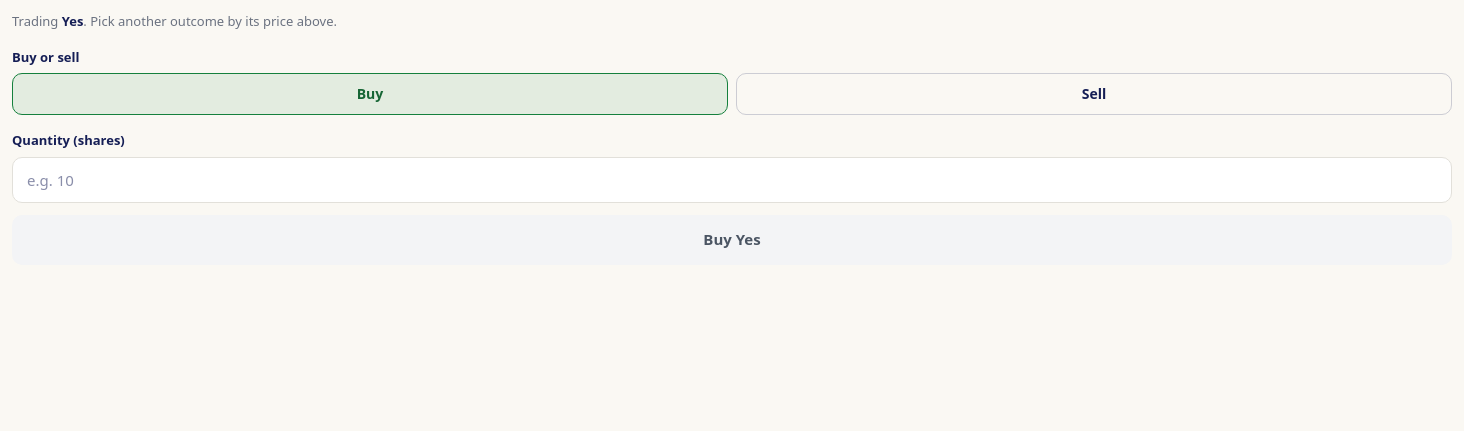
Scenario: TradingPanel › shows a live cost preview after the debounce settles
The width and height of the screenshot is (1464, 431).
Type "10" into the number field labelled "Quantity (shares)" at [732, 180], box [12,156,1452,202]
Wait 300 ms
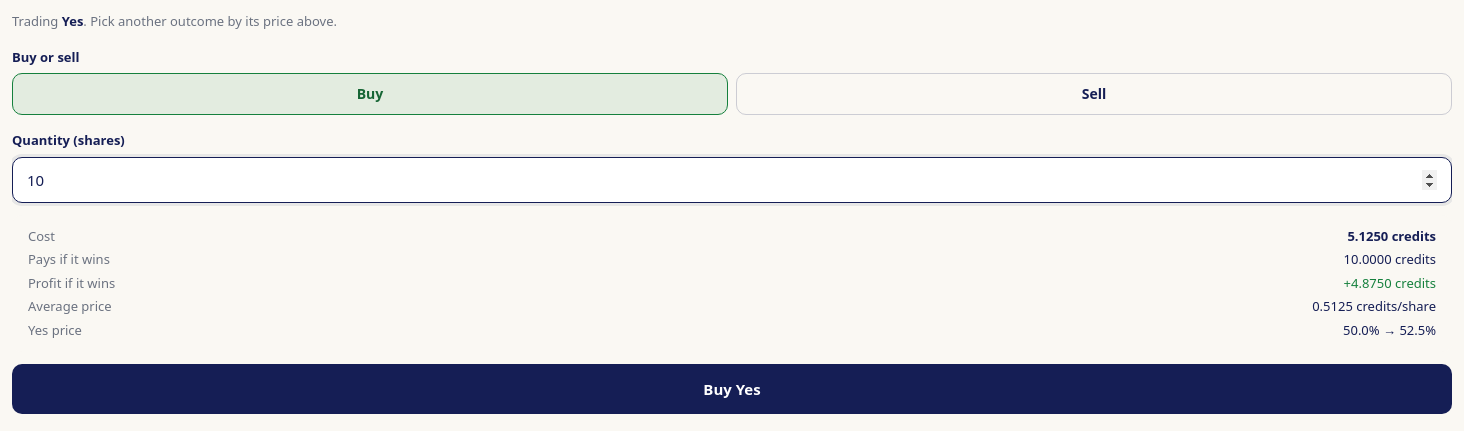
Expected: the element named "trade preview" does not show "51.3%", [12,214,1452,352]
Now the element named "trade preview" shows "5.1250 credits", box [12,214,1452,352]
Now the element named "trade preview" shows "0.5125 credits/share", box [12,214,1452,352]
